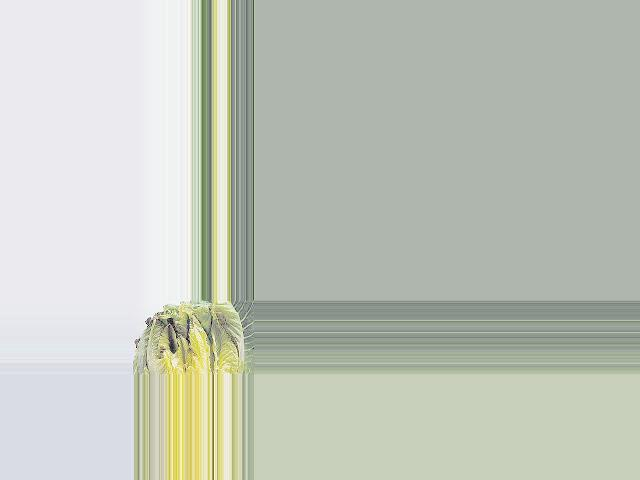lettuce: (137, 303, 254, 375)
